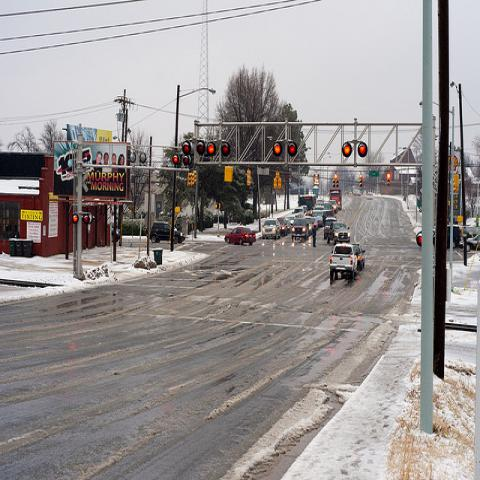car: (277, 186, 362, 236), (150, 221, 185, 244), (224, 227, 256, 245), (326, 222, 350, 245), (291, 217, 309, 242), (262, 218, 282, 240), (352, 242, 366, 271), (466, 233, 479, 252), (311, 211, 324, 227), (305, 218, 314, 234), (329, 199, 338, 215), (294, 207, 304, 213), (366, 192, 373, 200)
truck: (329, 242, 357, 284), (330, 189, 342, 211)
